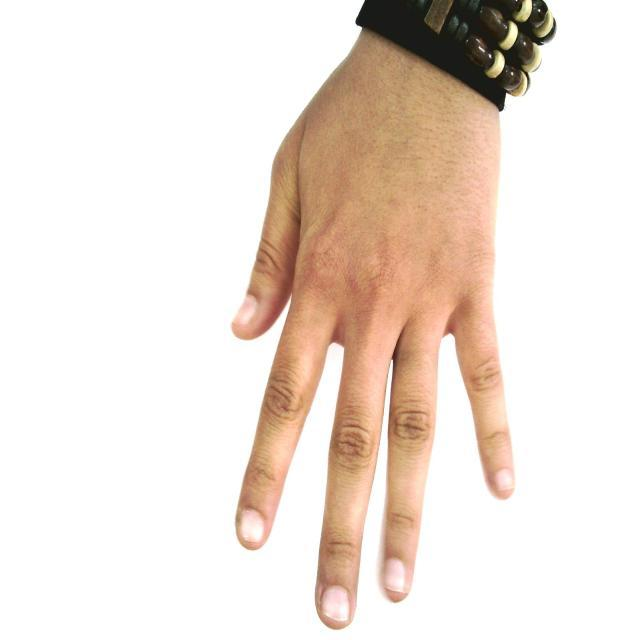Fingernail: (322, 587, 349, 622), (384, 558, 406, 592), (241, 510, 263, 544), (234, 297, 256, 325), (495, 470, 513, 493)
